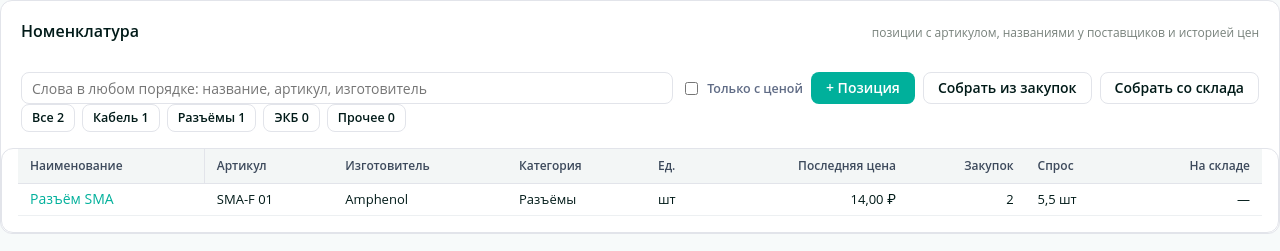
Test: lists items with last price, purchases and demand, and filters by category chip
Check: the button "Разъём SMA" is shown, box x1=30 y1=190 x2=114 y2=209
Check: the text "SMA-F 01" is shown, box x1=205 y1=184 x2=333 y2=216
Click the button "Кабель 1": (121, 118) x1=82 y1=104 x2=160 y2=132
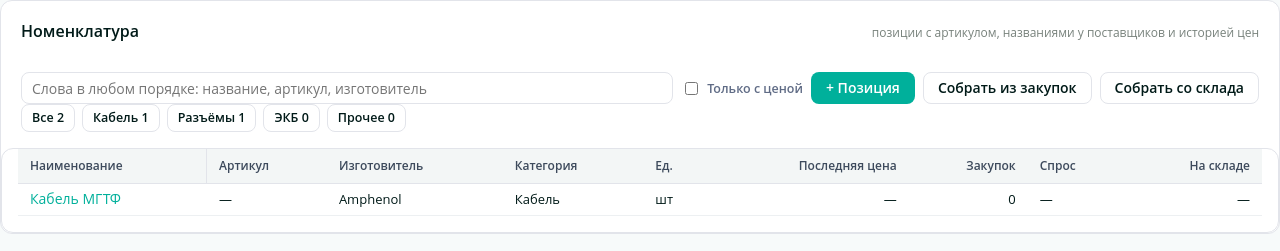
Check: the button "Кабель МГТФ" is shown, box x1=30 y1=190 x2=121 y2=209
